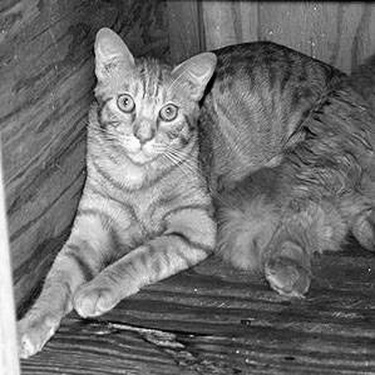cat: (1, 22, 371, 363)
